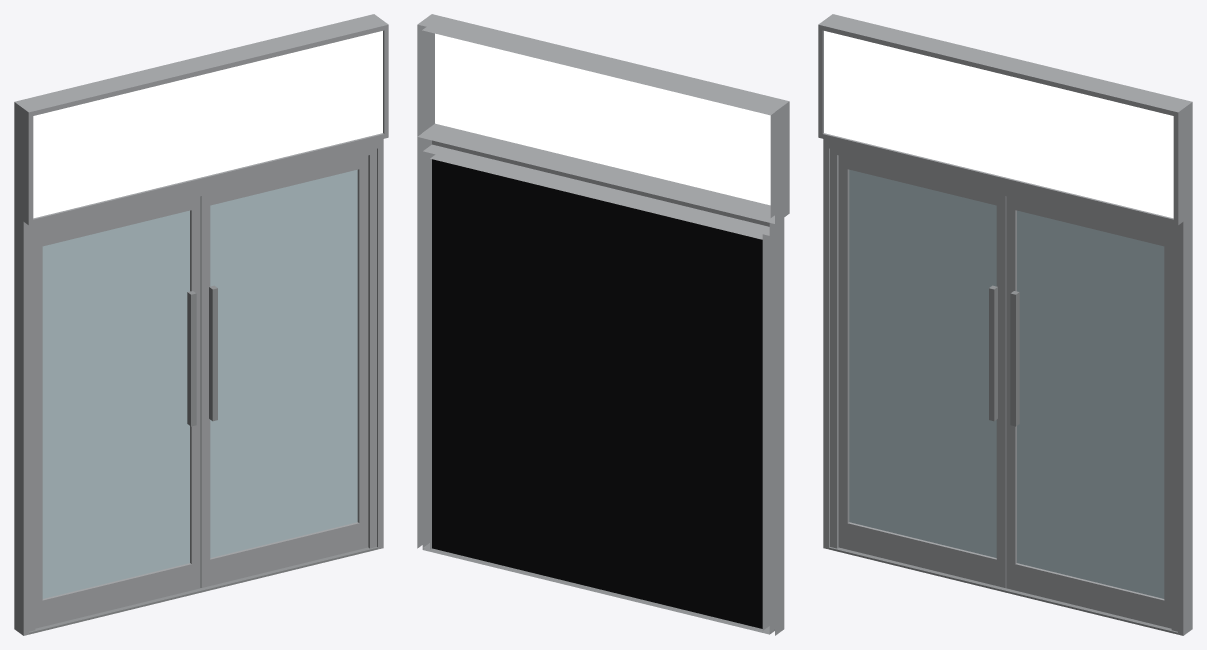
Rendered from gteki_shopfront_door_w2000.glb.
The picture shows the model from 3 angles, left to right: view 1: azimuth 30°, elevation 25°; view 2: azimuth 150°, elevation 25°; view 3: azimuth 330°, elevation 25°; orthographic projection.
Parts seen in each view (by area): view 1: VIS_body; view 2: VIS_body; view 3: VIS_body.
Part boxes in pixels (left/top/right/bottom): VIS_body: left=14, top=14, right=388, bottom=635; VIS_body: left=417, top=14, right=789, bottom=635; VIS_body: left=818, top=14, right=1192, bottom=635.
Size of the model in its own units: 2 by 2.8 by 0.14.
Materials: 3 (2 with a texture image).
